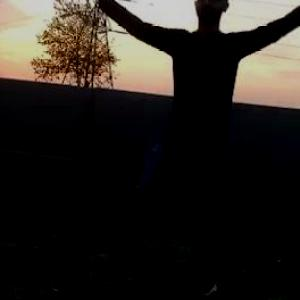takeoff: (95, 0, 299, 265)
